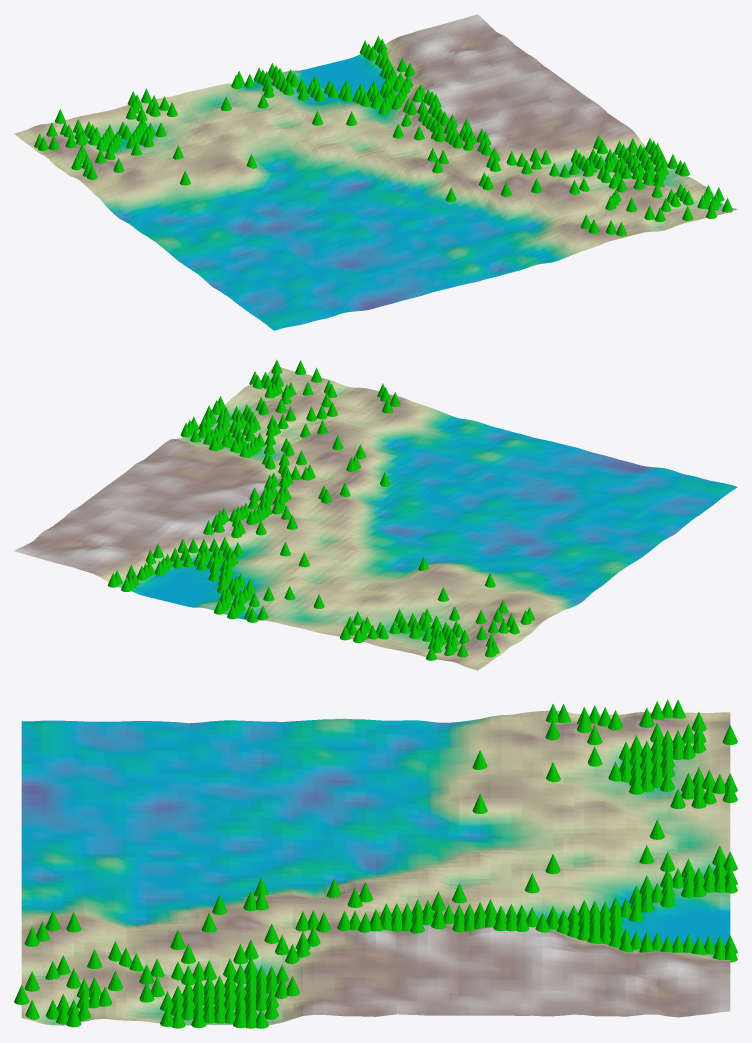
The model's file is 000543_with_tree.glb.
The picture shows the model from 3 angles, top to bottom: view 1: azimuth 30°, elevation 25°; view 2: azimuth 150°, elevation 25°; view 3: azimuth 270°, elevation 25°; orthographic projection. The views are drawn at different scales.
Parts seen in each view (by area): view 1: terrain, trees; view 2: terrain, trees; view 3: terrain, trees.
Boxes of the visible parts, box(x1,y1,x2,y2) form: terrain: box(14, 14, 737, 330); trees: box(34, 36, 732, 236); terrain: box(14, 366, 737, 670); trees: box(107, 359, 534, 660); terrain: box(21, 710, 730, 1025); trees: box(14, 699, 737, 1028).
Size of the model in its own units: 0.0191 by 0.00111 by 0.0187.
